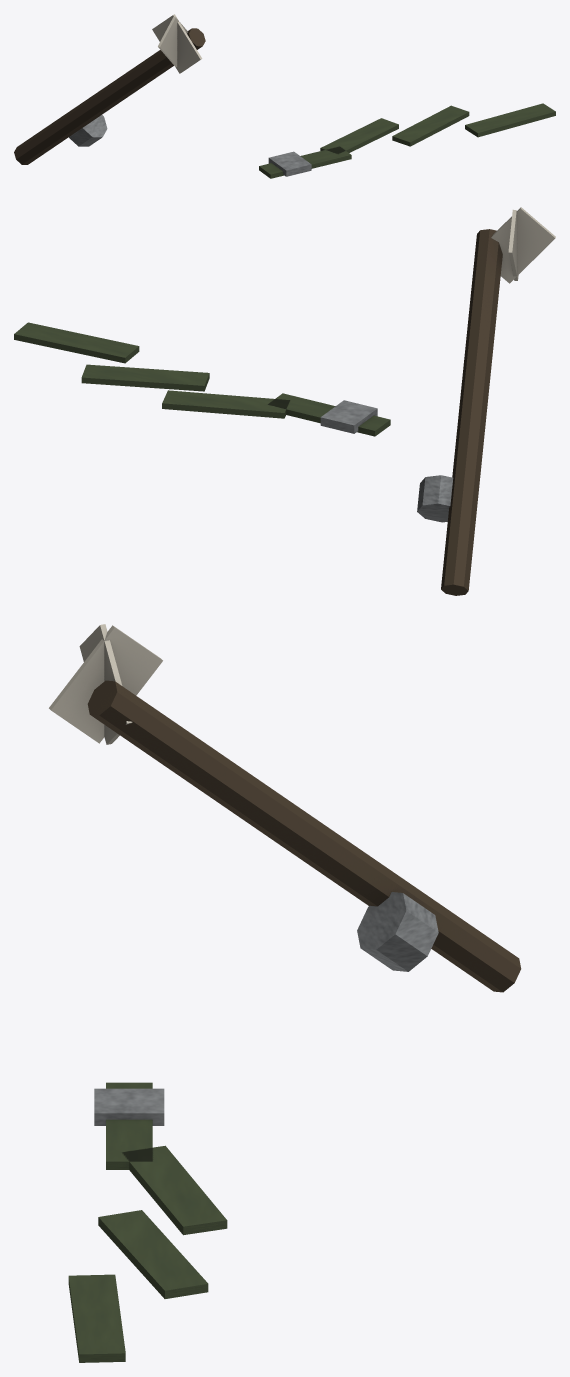
File: trace_rosa.glb
3 views of the same model, one above another, from view 1: azimuth 30°, elevation 25°; view 2: azimuth 150°, elevation 25°; view 3: azimuth 270°, elevation 25° (orthographic). The views are drawn at different scales.
Visible parts, largest first — view 1: trace_rosa; view 2: trace_rosa; view 3: trace_rosa.
Part boxes in pixels (left/top/right/bottom): trace_rosa: left=14, top=14, right=555, bottom=178; trace_rosa: left=14, top=207, right=555, bottom=595; trace_rosa: left=49, top=624, right=521, bottom=1362.
Bounding box in the file's own units: 0.8607 × 0.3921 × 0.4048.
4 materials, 4 textured.
